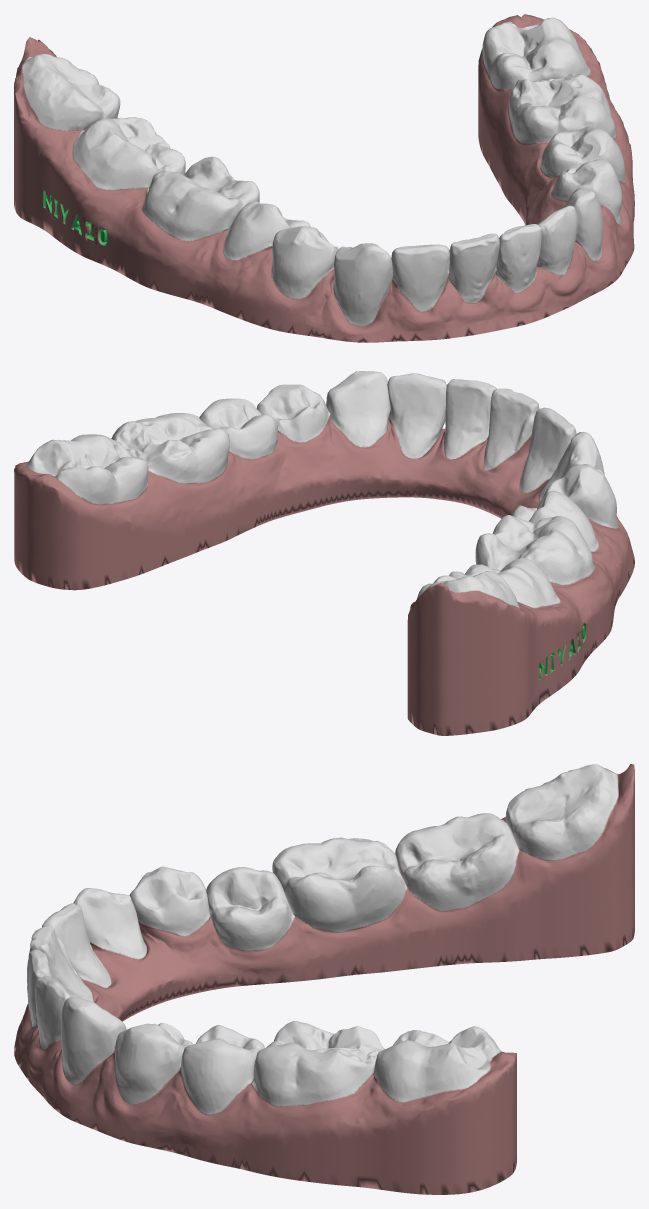
The model's file is Niya Priority Lower jaw - 10 - Model.glb.
3 views of the same model, one above another, from view 1: azimuth 30°, elevation 25°; view 2: azimuth 150°, elevation 25°; view 3: azimuth 270°, elevation 25° (orthographic). The views are drawn at different scales.
Visible parts, largest first — view 1: Niya Priority Lower jaw - 10 - Model; view 2: Niya Priority Lower jaw - 10 - Model; view 3: Niya Priority Lower jaw - 10 - Model.
Boxes of the visible parts, x1=… form: Niya Priority Lower jaw - 10 - Model: x1=14, y1=14, x2=634, y2=342; Niya Priority Lower jaw - 10 - Model: x1=14, y1=371, x2=634, y2=735; Niya Priority Lower jaw - 10 - Model: x1=14, y1=764, x2=634, y2=1194.
Bounding box in the file's own units: 62.72 × 16.53 × 56.55.
